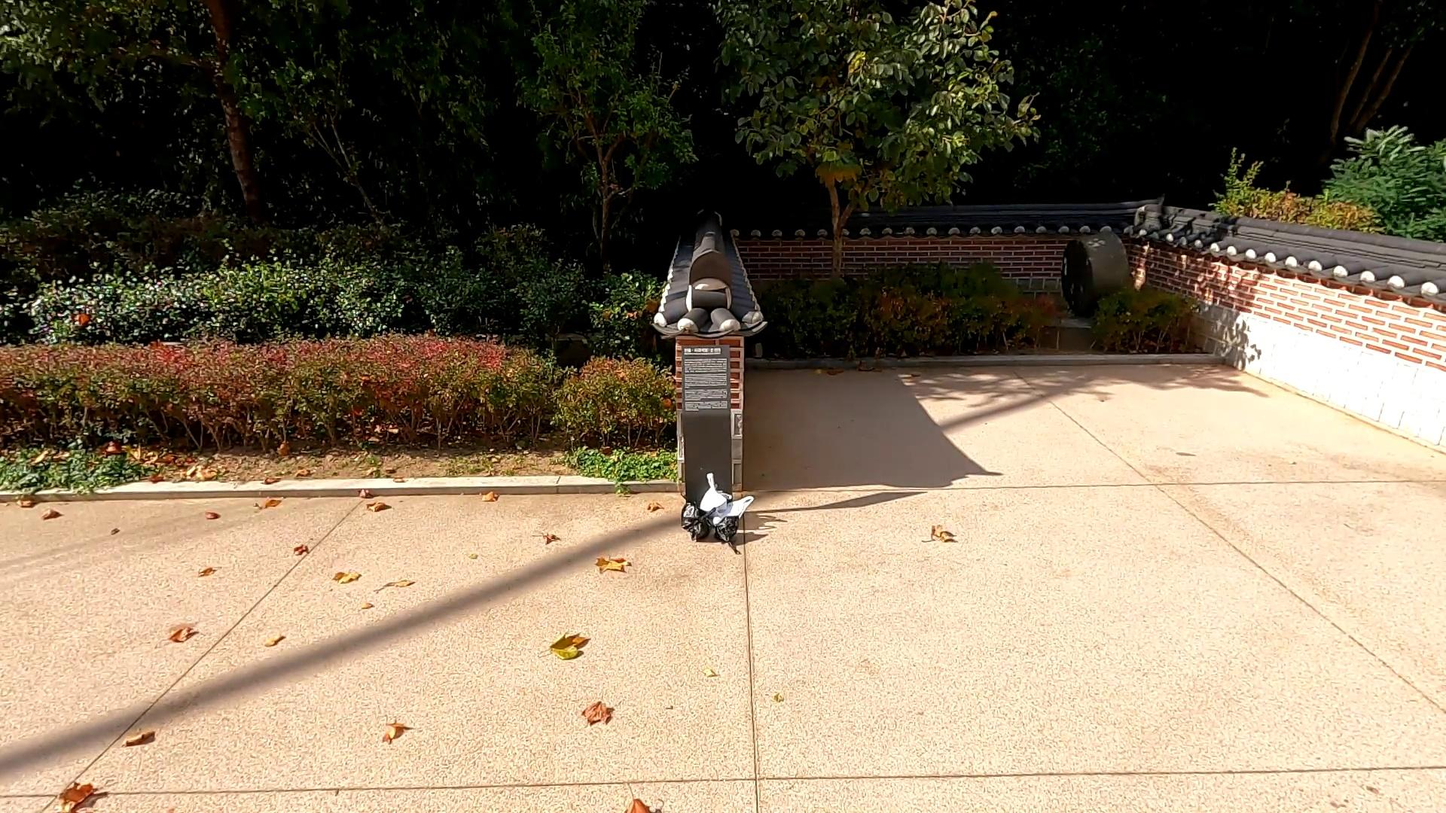trash: (695, 469, 757, 529), (678, 501, 717, 542), (711, 514, 744, 558)
